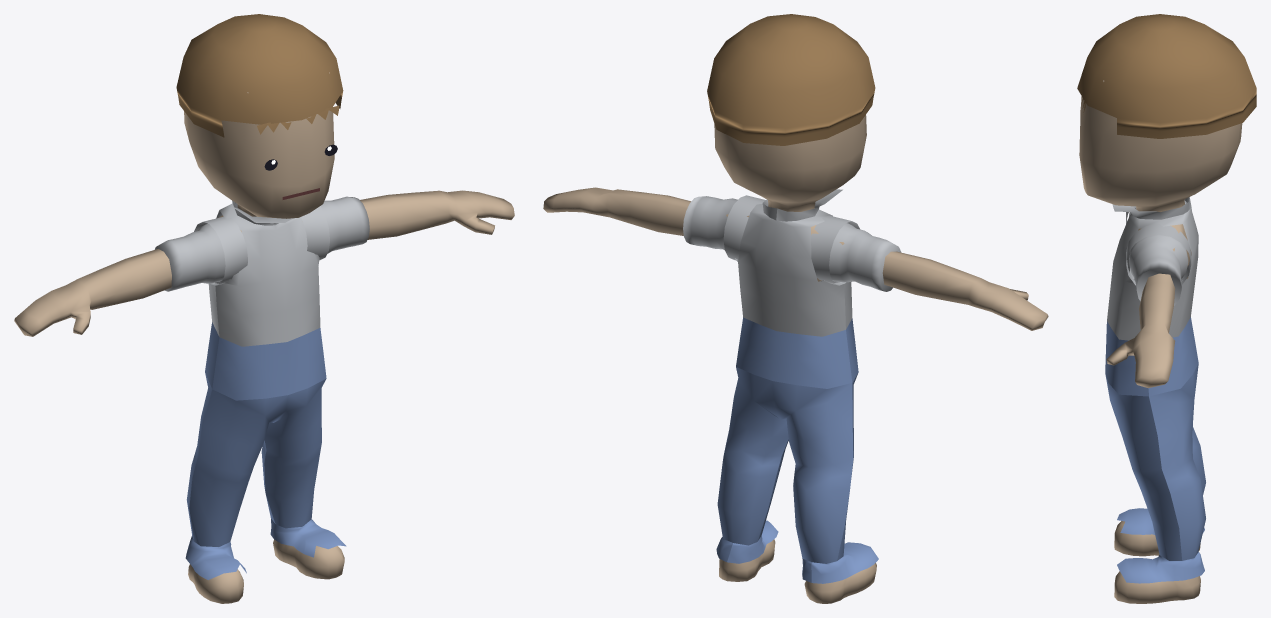
The picture shows the model from 3 angles, left to right: view 1: azimuth 30°, elevation 25°; view 2: azimuth 150°, elevation 25°; view 3: azimuth 270°, elevation 25°; orthographic projection.
Parts seen in each view (by area): view 1: Body, Clothing_jeans, Clothing_short_sleeve, Hair; view 2: Clothing_jeans, Body, Clothing_short_sleeve, Hair; view 3: Body, Hair, Clothing_jeans, Clothing_short_sleeve.
Boxes of the visible parts, bbox=[...] form: Body: bbox=[14, 72, 514, 603]; Clothing_jeans: bbox=[185, 322, 346, 579]; Clothing_short_sleeve: bbox=[155, 196, 369, 346]; Hair: bbox=[176, 14, 343, 137]; Clothing_jeans: bbox=[716, 317, 878, 583]; Body: bbox=[543, 115, 1048, 603]; Clothing_short_sleeve: bbox=[683, 189, 901, 336]; Hair: bbox=[707, 14, 875, 145]; Body: bbox=[1079, 80, 1242, 603]; Hair: bbox=[1077, 14, 1256, 138]; Clothing_jeans: bbox=[1105, 317, 1205, 583]; Clothing_short_sleeve: bbox=[1107, 197, 1198, 340].
Bounding box in the file's own units: 1.44 × 1.53 × 0.4563.
